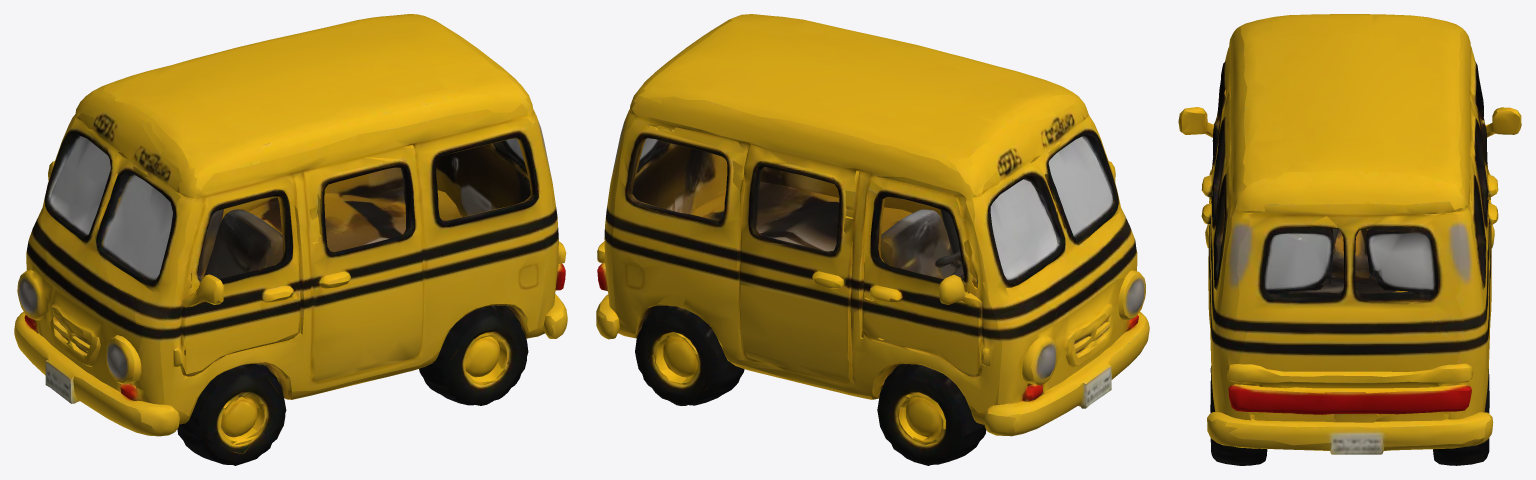
Rendered from danfo_toy.glb.
3 renders of one model, left to right at view 1: azimuth 30°, elevation 25°; view 2: azimuth 150°, elevation 25°; view 3: azimuth 270°, elevation 25°, orthographic.
Visible parts, largest first — view 1: geometry_0; view 2: geometry_0; view 3: geometry_0.
Boxes of the visible parts, x1=… form: geometry_0: x1=14, y1=14, x2=567, y2=465; geometry_0: x1=596, y1=14, x2=1149, y2=465; geometry_0: x1=1178, y1=14, x2=1521, y2=465.
Size of the model in its own units: 0.18 by 0.1199 by 0.1168.
Materials: 1 (1 with a texture image).
